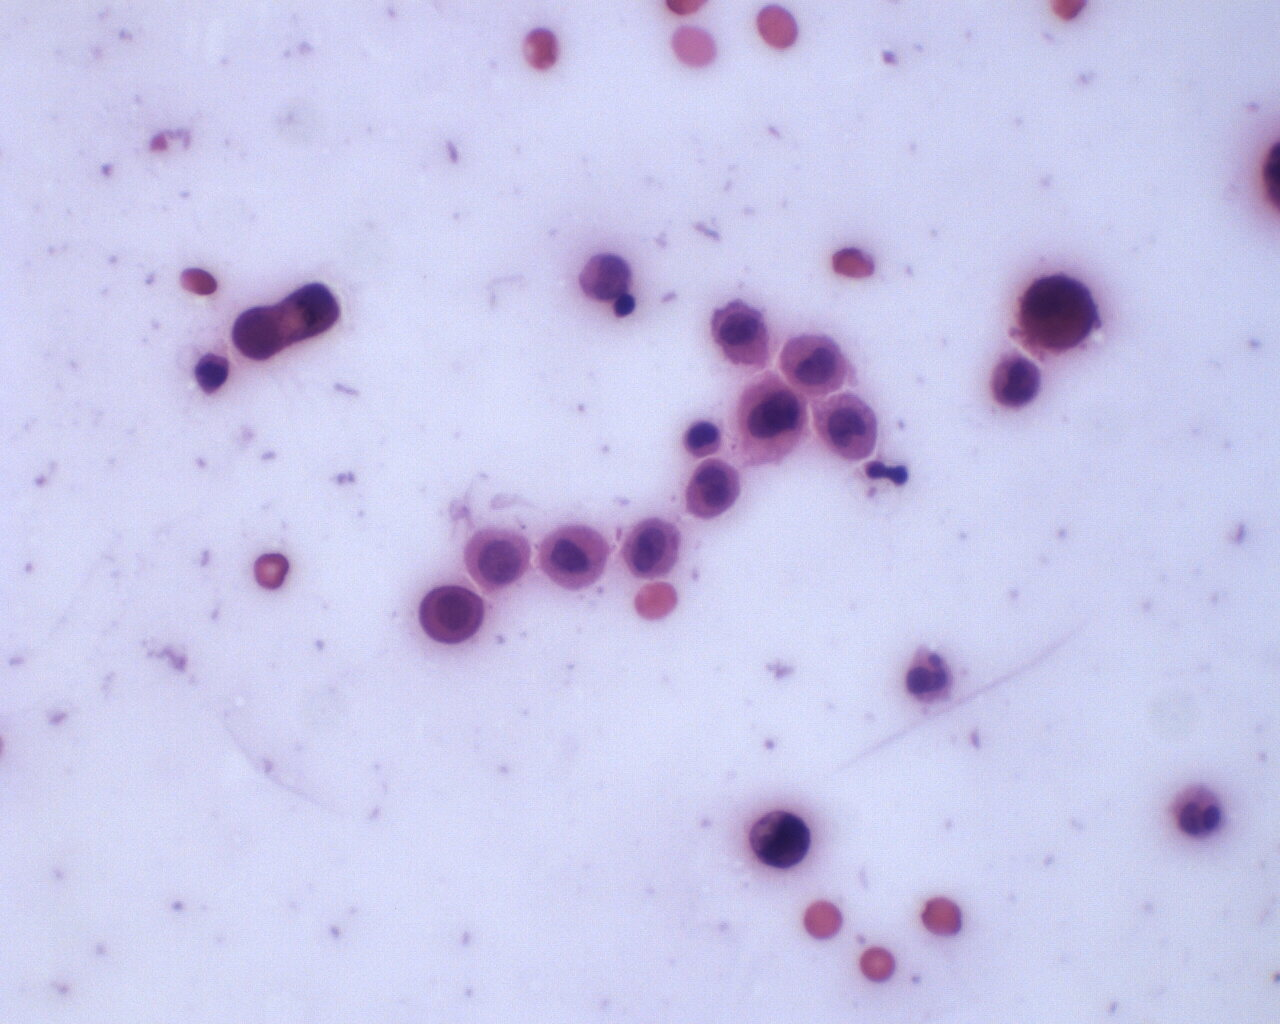ab: (1018, 270, 1100, 355), (812, 386, 884, 465), (746, 805, 819, 872), (620, 515, 686, 581), (683, 457, 749, 523), (226, 304, 290, 362), (988, 350, 1040, 408)
meso: (413, 584, 490, 650), (460, 523, 530, 592)
neutro: (900, 642, 958, 708), (1172, 782, 1226, 841)
